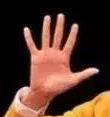down: (22, 12, 101, 94)
